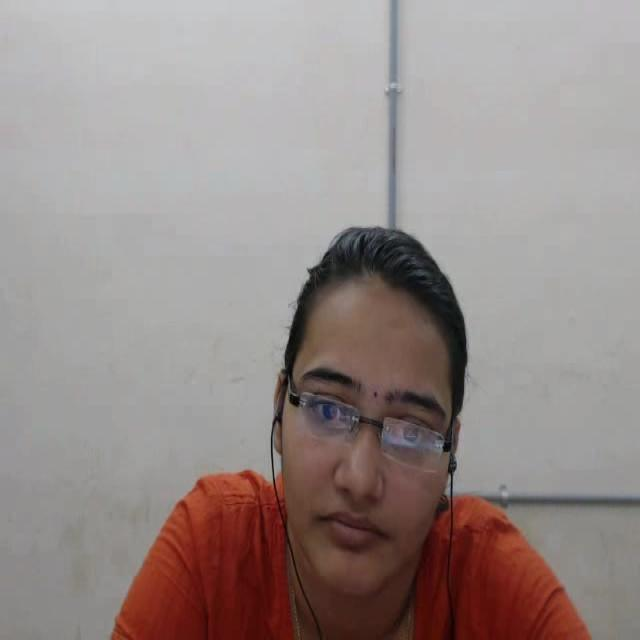Engaged: (222, 185, 477, 640)
